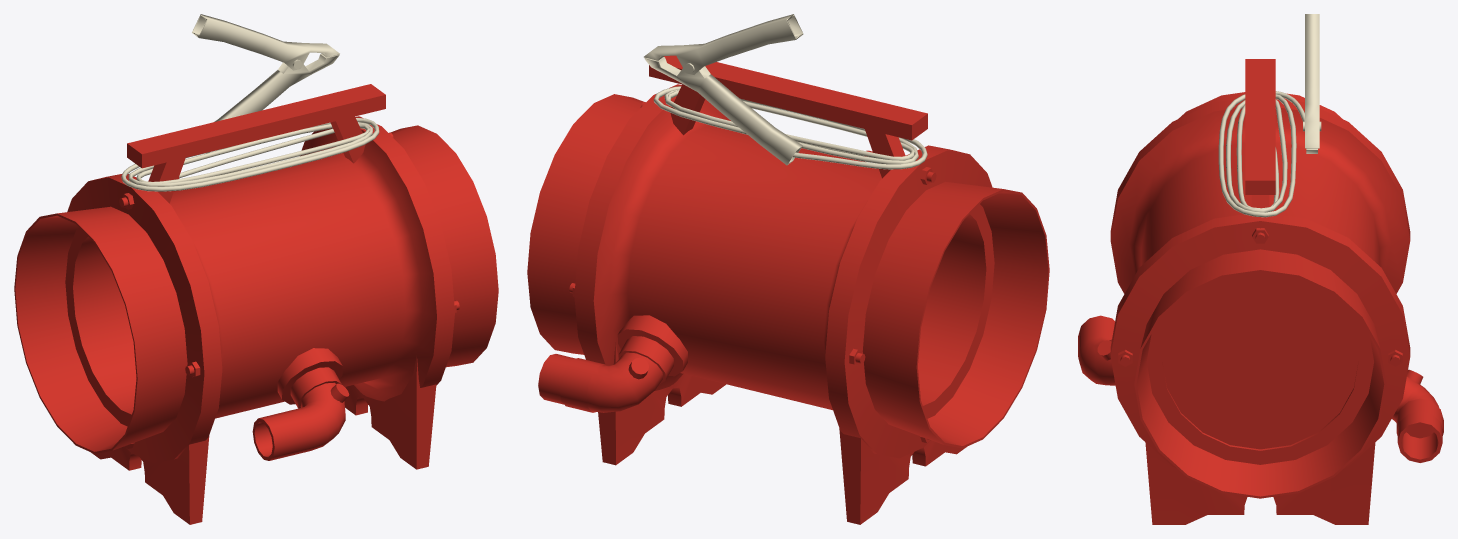
Rendered from ram.fbx.
The picture shows the model from 3 angles, left to right: view 1: azimuth 30°, elevation 25°; view 2: azimuth 150°, elevation 25°; view 3: azimuth 270°, elevation 25°; orthographic projection. The views are drawn at different scales.
Parts seen in each view (by area): view 1: pCylinder25, extrudedSurface1, pCylinder28; view 2: pCylinder25, pCylinder28, extrudedSurface1; view 3: pCylinder25, extrudedSurface1, pCylinder28.
Part boxes in pixels (box(x1,y1,x2,y2)): pCylinder25: box(14, 84, 498, 524); extrudedSurface1: box(121, 118, 379, 191); pCylinder28: box(192, 14, 339, 153); pCylinder25: box(527, 55, 1049, 524); pCylinder28: box(644, 14, 803, 165); extrudedSurface1: box(653, 86, 927, 169); pCylinder25: box(1078, 59, 1443, 524); extrudedSurface1: box(1218, 91, 1304, 217); pCylinder28: box(1303, 14, 1321, 153).
Size of the model in its own units: 123 by 139 by 105.
